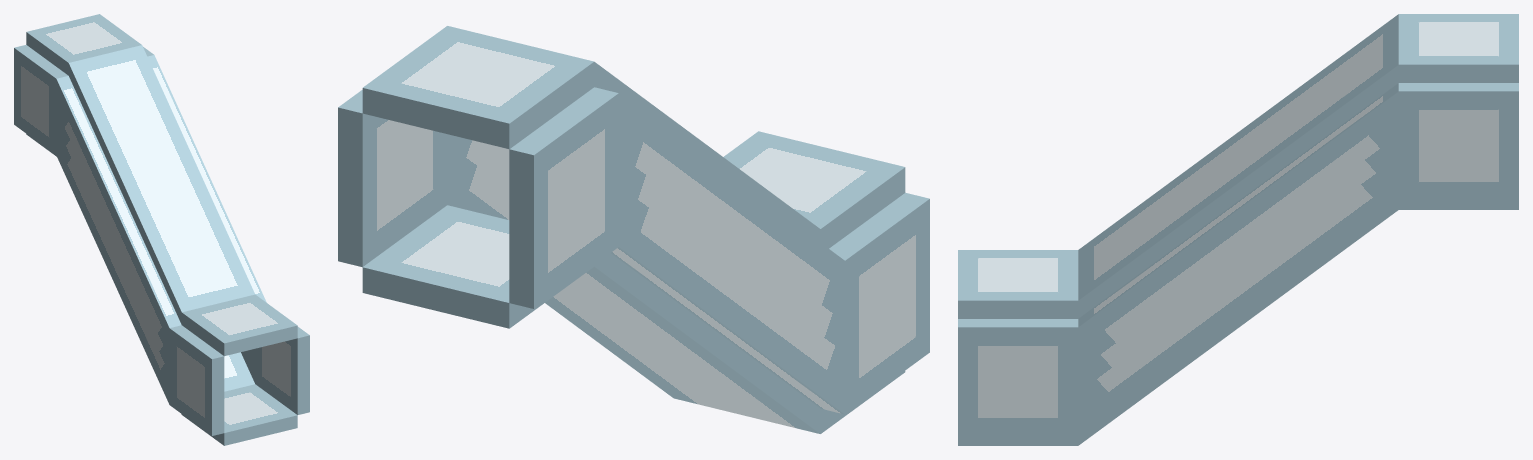
Rendered from stairs.fbx.
The picture shows the model from 3 angles, left to right: view 1: azimuth 30°, elevation 25°; view 2: azimuth 150°, elevation 25°; view 3: azimuth 270°, elevation 25°; orthographic projection. The views are drawn at different scales.
Parts seen in each view (by area): view 1: cuboid_2, cuboid, plane_5, plane_3, plane_7, plane, plane_4, plane_2, cuboid_1, cuboid_3; view 2: cuboid, plane_7, cuboid_3, plane, plane_5, plane_6, plane_1, plane_3, cuboid_1, cuboid_2; view 3: cuboid_1, cuboid_2, plane_4, plane_6, plane, plane_3, cuboid_3, plane_1, plane_2.
Part boxes in pixels (x1,y1,x2,y2): cuboid_2: (68,45,254,324); cuboid: (56,76,181,404); plane_5: (169,325,224,435); plane_3: (181,294,297,356); plane_7: (14,45,68,154); plane: (26,14,141,75); plane_4: (255,326,309,414); plane_2: (181,384,297,445); cuboid_1: (147,55,266,383); cuboid_3: (224,352,254,391); cuboid: (611,93,844,414); plane_7: (509,87,618,308); cuboid_3: (545,253,820,433); plane: (362,26,594,149); plane_5: (829,192,929,414); plane_6: (338,90,447,267); plane_1: (362,205,594,328); plane_3: (723,131,905,248); cuboid_1: (447,134,509,219); cuboid_2: (594,62,820,242); cuboid_1: (1078,83,1398,435); cuboid_2: (1078,14,1398,318); plane_4: (958,319,1078,436); plane_6: (1398,83,1518,200); plane: (1398,14,1518,82); plane_3: (958,250,1078,318); cuboid_3: (1078,200,1398,445); plane_1: (1398,200,1518,209); plane_2: (958,436,1078,445).
Bounding box in the file's own units: 50 × 131 × 175.
2 materials, 2 textured.
